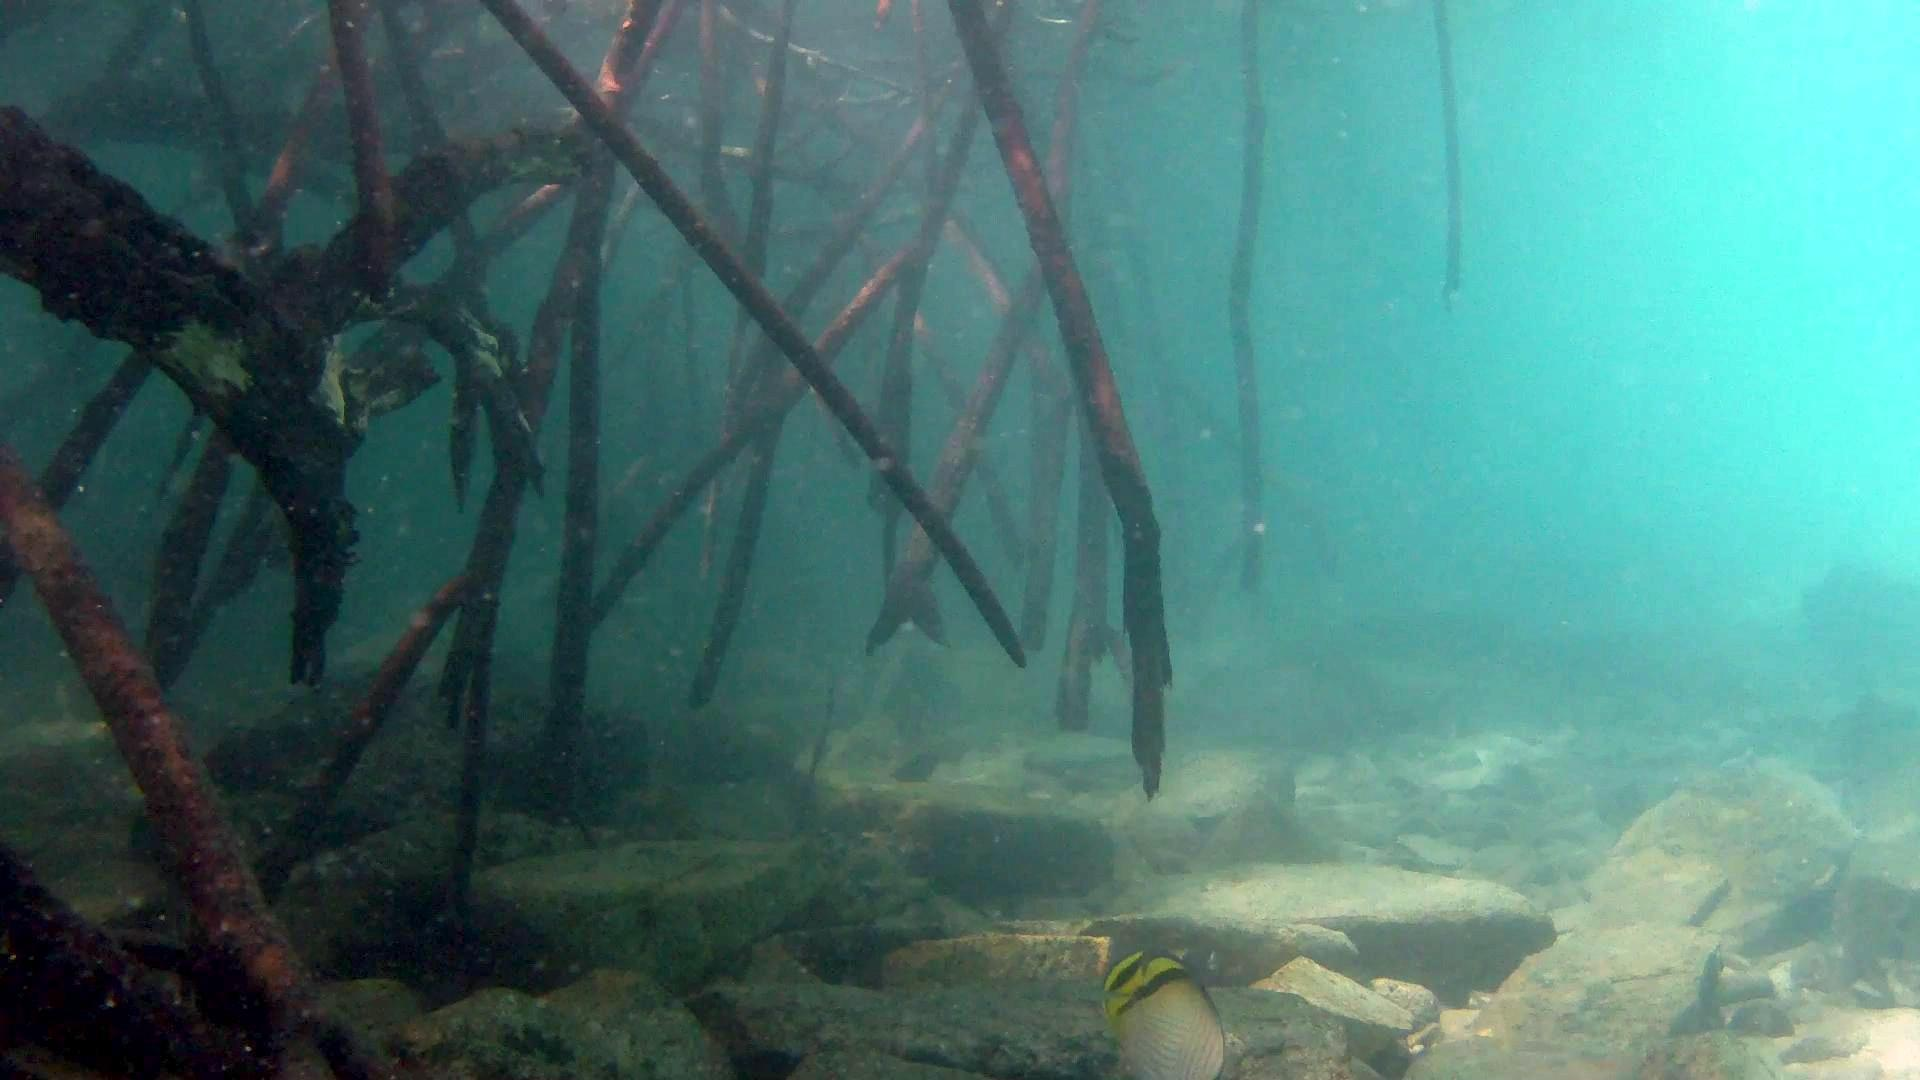chaetodon vagabundus: (1100, 949, 1227, 1080)
